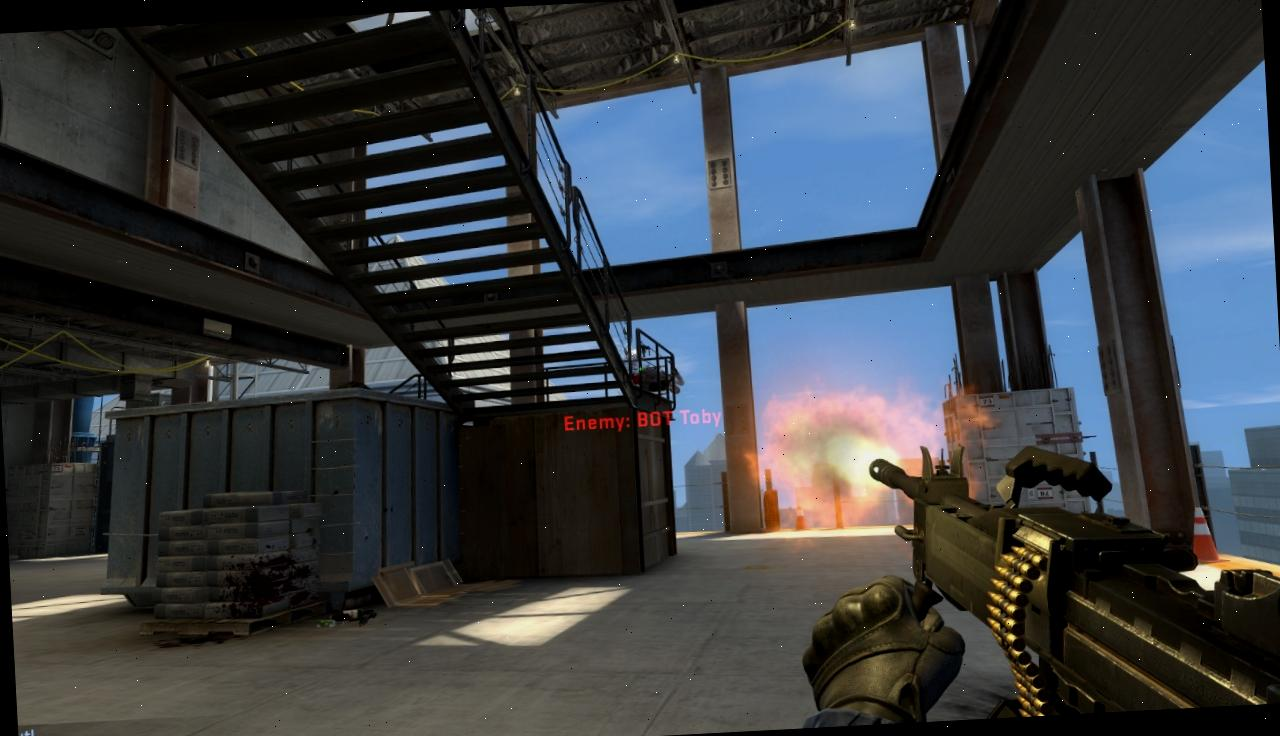rifle: (844, 424, 1280, 725)
